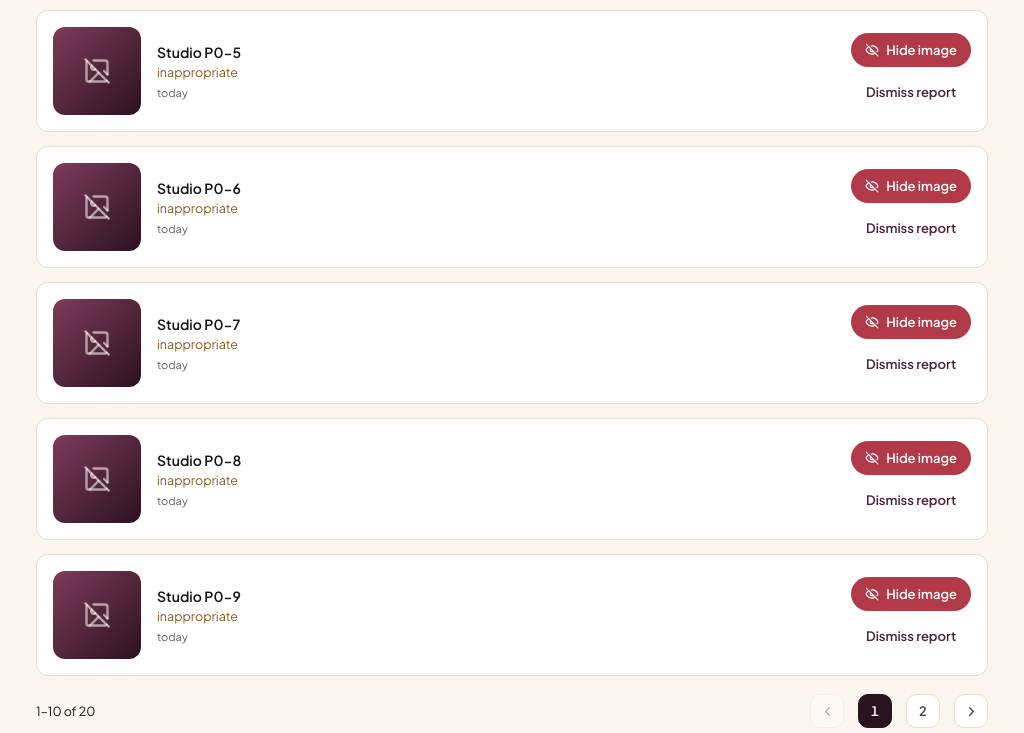
Test case: <Moderation> (reported photos) - server paging › when the last row of the last page is handled the screen steps back to the last real page, not 'Queue is clear'
(page scrolled)
Click the button named "Page 2".
click(923, 711)  # box [906,694,940,728]
(page scrolled)
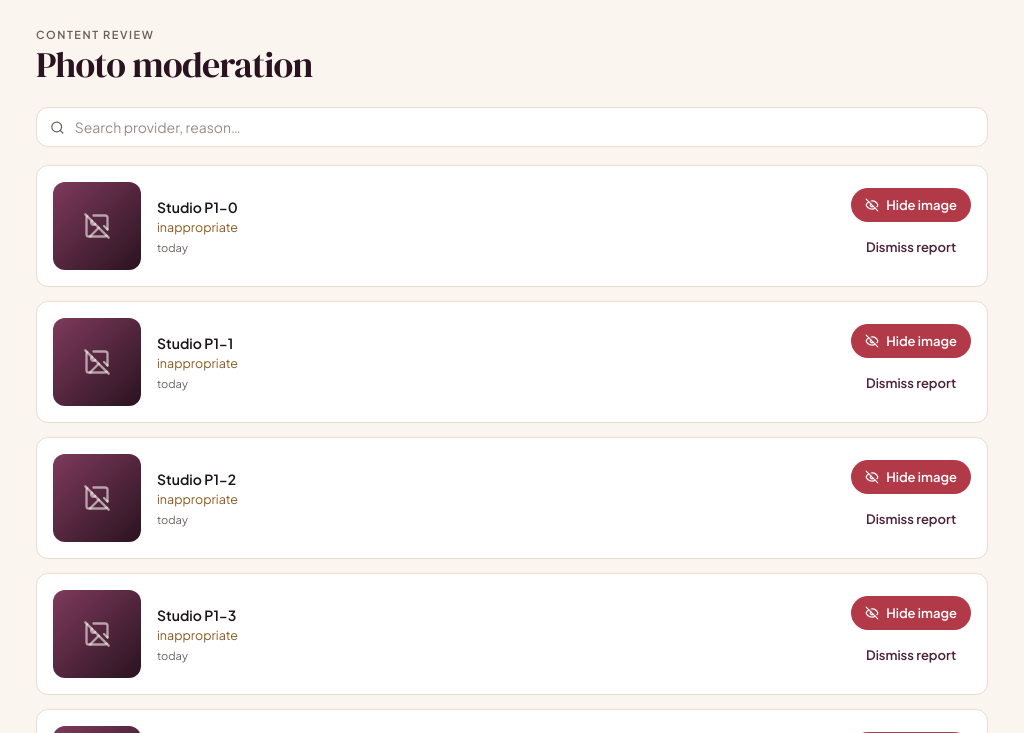
Click the 1st button "Dismiss report".
click(911, 247)  # box [851,230,971,264]
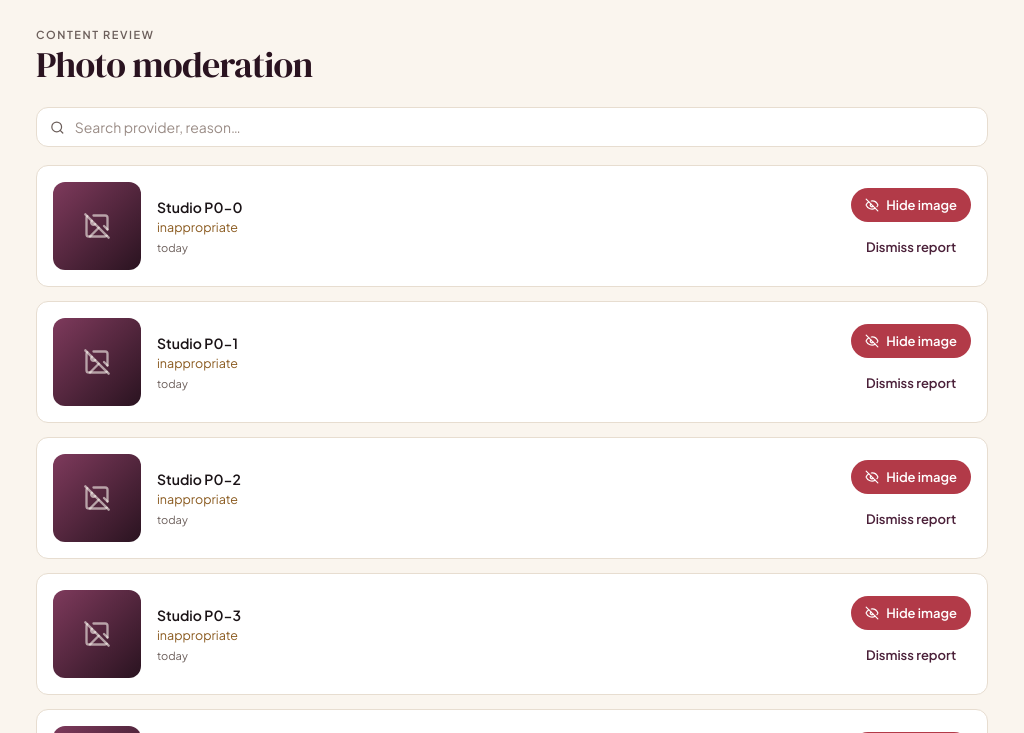
Now the heading "Studio P0-0" is shown, box [157,198,242,216]
